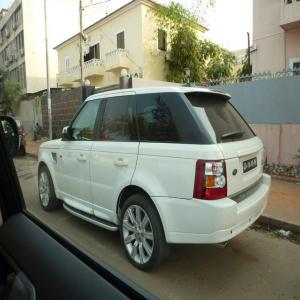Vehicle-registration-plate: (243, 156, 258, 177)
